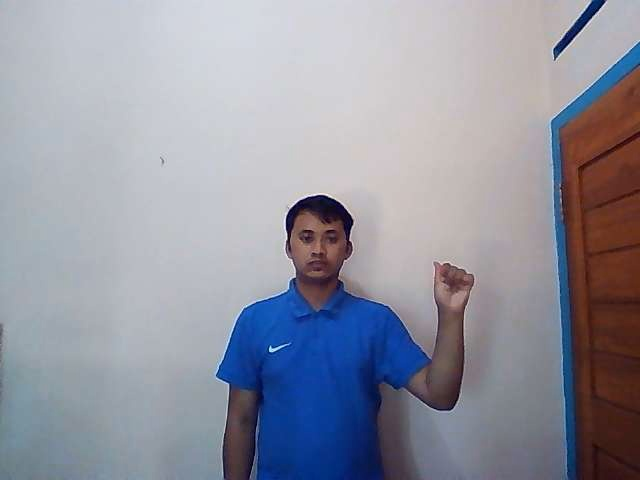A: (432, 260, 475, 311)
